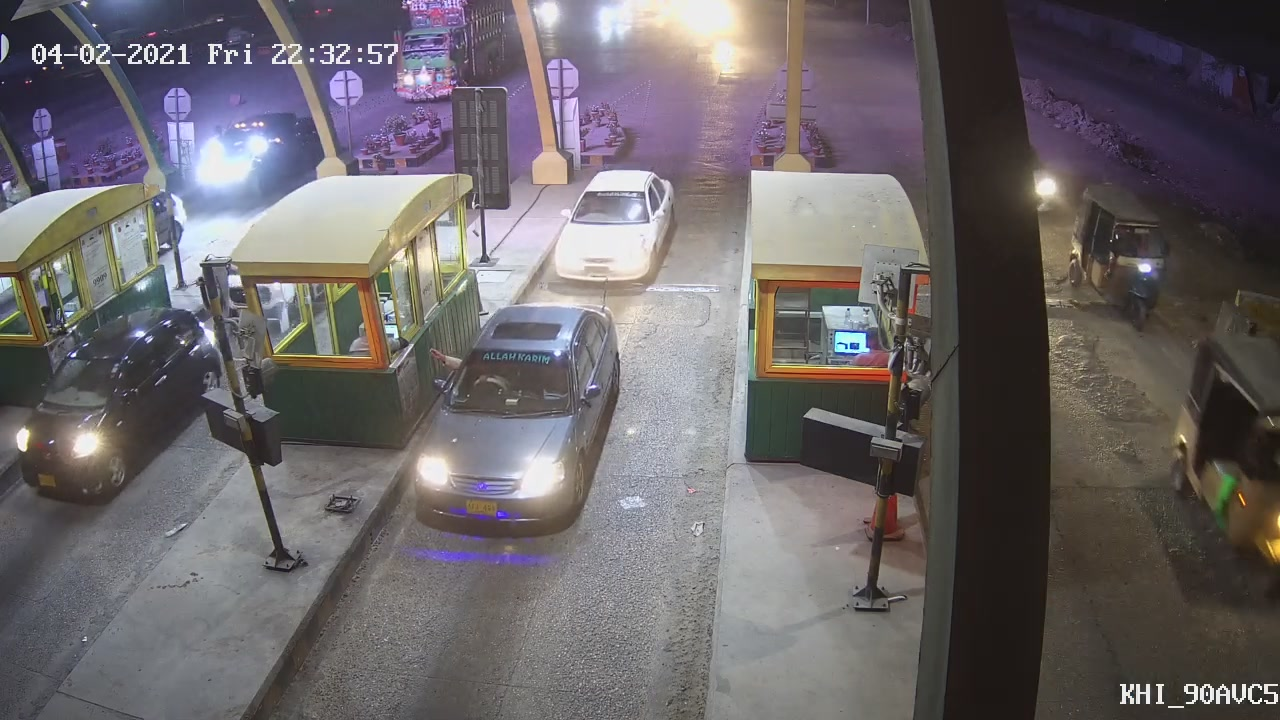F1: (408, 292, 625, 529), (543, 165, 680, 286)
